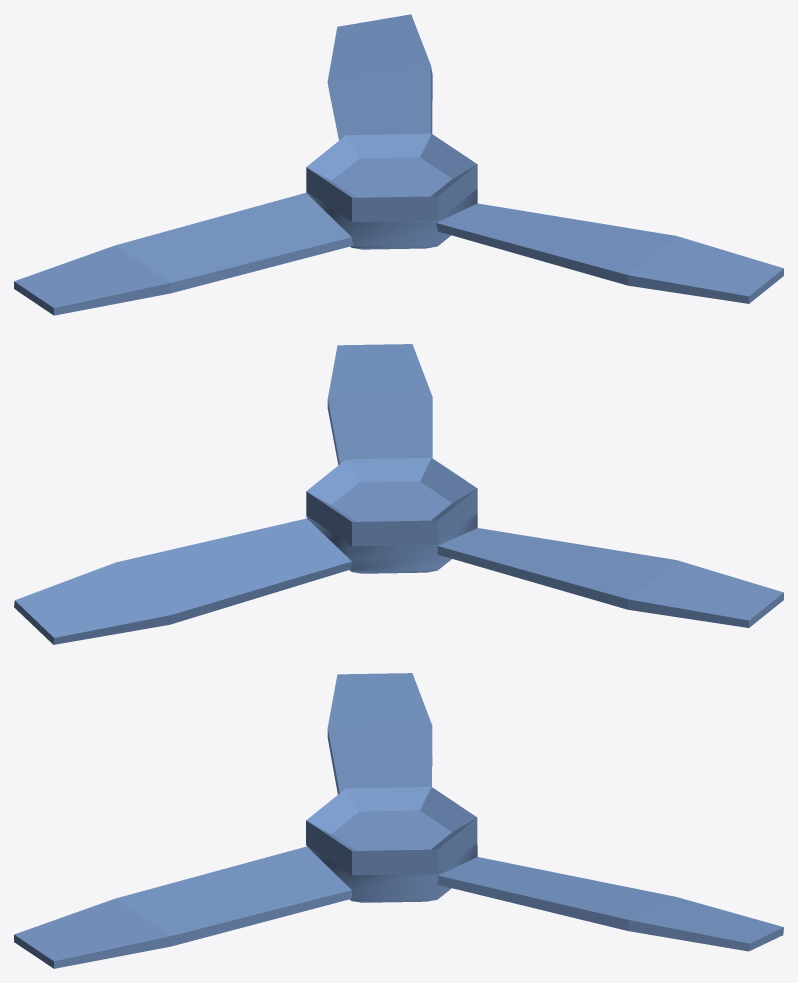
Rendered from fan.FBX.
3 renders of one model, top to bottom at view 1: azimuth 30°, elevation 25°; view 2: azimuth 150°, elevation 25°; view 3: azimuth 270°, elevation 25°, orthographic.
Parts seen in each view (by area): view 1: Cylinder001; view 2: Cylinder001; view 3: Cylinder001.
Part boxes in pixels (x1,y1,x2,y2): Cylinder001: (14, 14, 783, 315); Cylinder001: (14, 344, 783, 644); Cylinder001: (14, 673, 783, 968).
Size of the model in its own units: 116 by 11.29 by 131.
